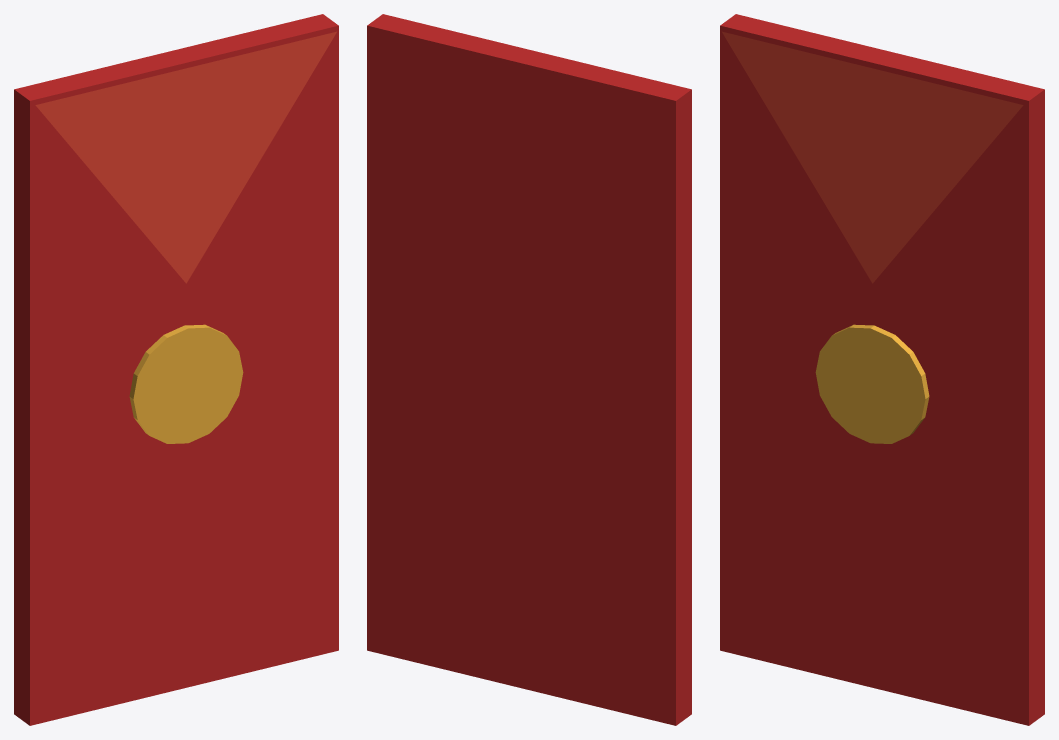
File: scendance-plan-cn-red-envelope.glb
3 renders of one model, left to right at view 1: azimuth 30°, elevation 25°; view 2: azimuth 150°, elevation 25°; view 3: azimuth 330°, elevation 25°, orthographic.
Bounding box in the file's own units: 0.09 × 0.174 × 0.01.
